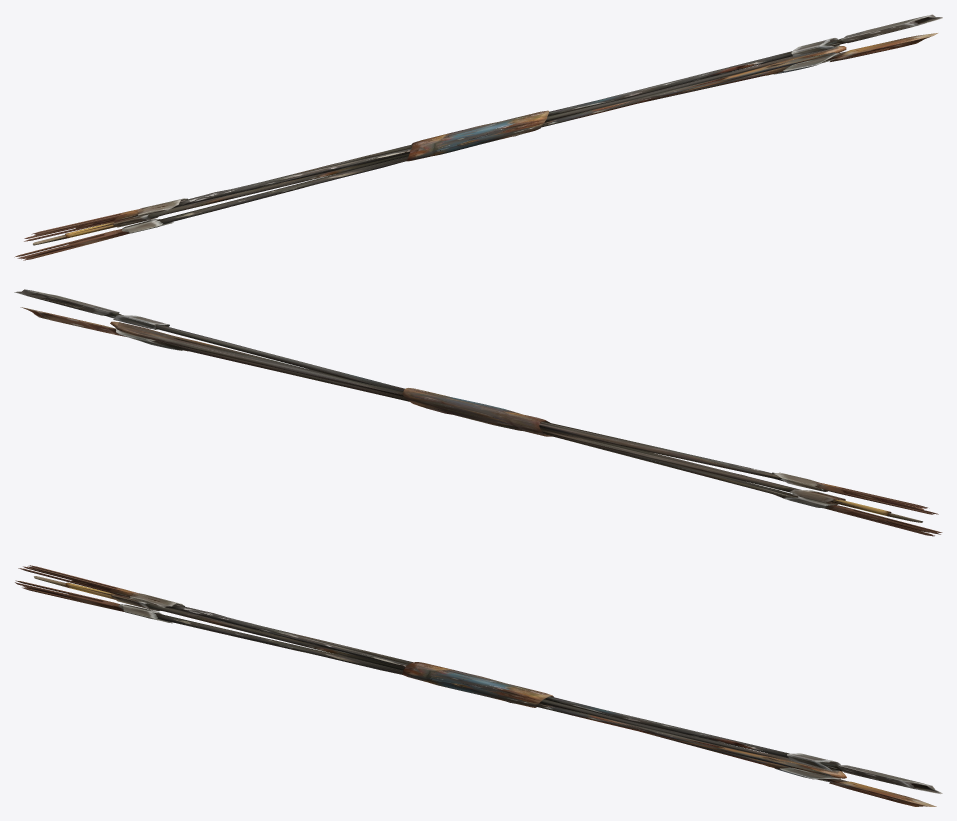
Rendered from line_cable_idle.glb.
The picture shows the model from 3 angles, top to bottom: view 1: azimuth 30°, elevation 25°; view 2: azimuth 150°, elevation 25°; view 3: azimuth 330°, elevation 25°; orthographic projection.
Parts seen in each view (by area): view 1: tripo_node_8ad0e241-73a5-4348-afc7-1ede038e8ebb; view 2: tripo_node_8ad0e241-73a5-4348-afc7-1ede038e8ebb; view 3: tripo_node_8ad0e241-73a5-4348-afc7-1ede038e8ebb.
Boxes of the visible parts, <box> form: tripo_node_8ad0e241-73a5-4348-afc7-1ede038e8ebb: <box>14,14,942,260</box>; tripo_node_8ad0e241-73a5-4348-afc7-1ede038e8ebb: <box>14,289,942,536</box>; tripo_node_8ad0e241-73a5-4348-afc7-1ede038e8ebb: <box>15,565,942,806</box>.
Bounding box in the file's own units: 3 × 0.0798 × 0.0605.
Materials: 1 (1 with a texture image).
